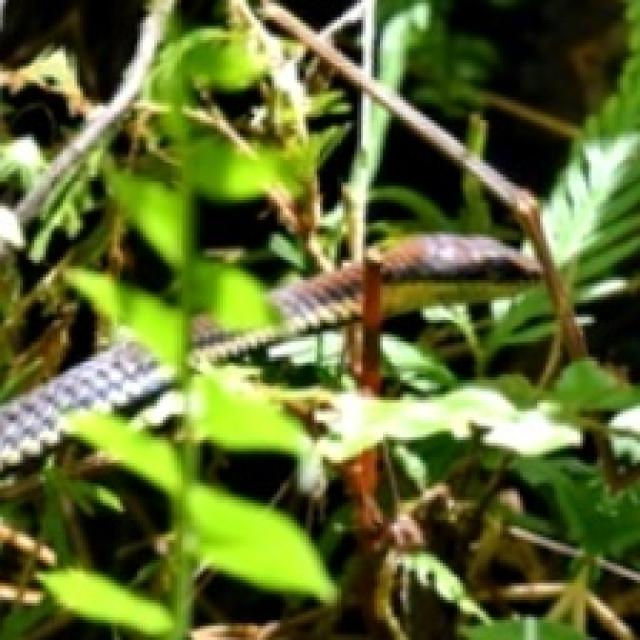philippine bronzeback treesnake: (0, 340, 171, 466), (191, 263, 360, 360), (378, 234, 541, 316)
